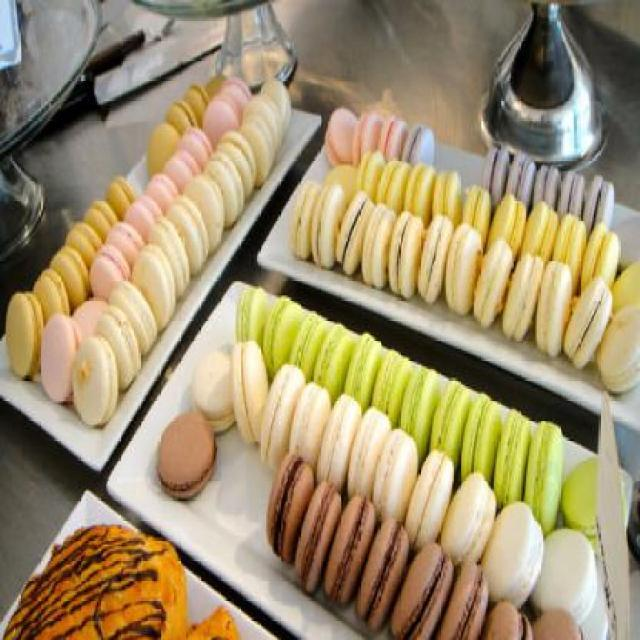Macaron: (10, 64, 639, 612)
